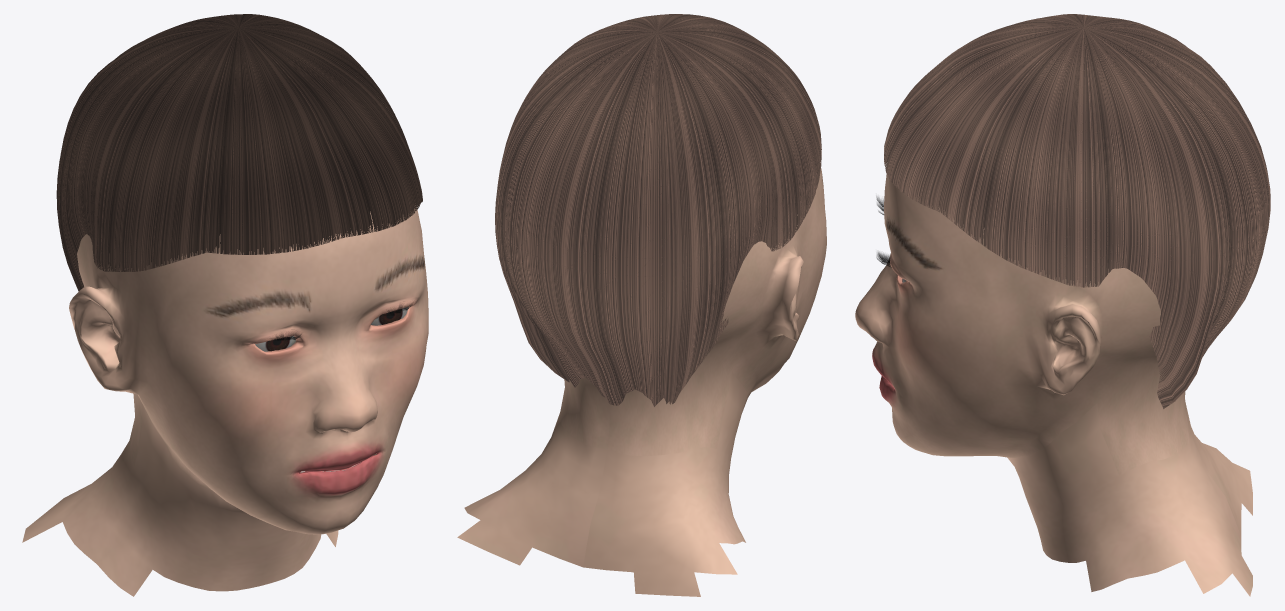
File: heads.glb
3 renders of one model, left to right at view 1: azimuth 30°, elevation 25°; view 2: azimuth 150°, elevation 25°; view 3: azimuth 270°, elevation 25°, orthographic. The views are drawn at different scales.
Visible parts, largest first — view 1: head; view 2: head; view 3: head.
Part boxes in pixels (<box>): head: <box>22,14,428,596</box>; head: <box>457,14,826,596</box>; head: <box>855,14,1270,596</box>.
Bounding box in the file's own units: 0.1601 × 0.2564 × 0.1862.
6 materials, 4 textured.
